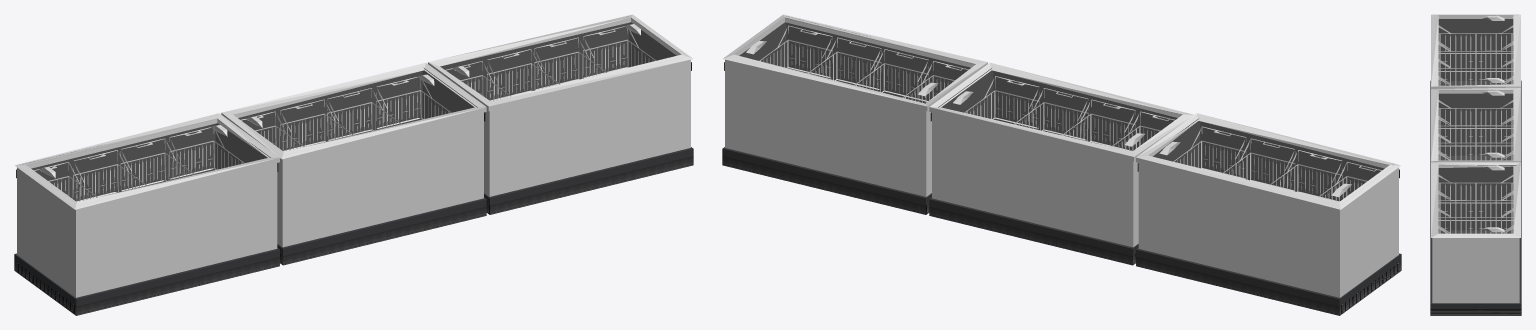
File: congelateur.glb
3 views of the same model, side by side, from view 1: azimuth 30°, elevation 25°; view 2: azimuth 150°, elevation 25°; view 3: azimuth 270°, elevation 25° (orthographic). The views are drawn at different scales.
Visible parts, largest first — view 1: congelateur; view 2: congelateur; view 3: congelateur.
Part boxes in pixels (x1,y1,x2,y2): congelateur: (14, 14, 693, 315); congelateur: (722, 14, 1401, 315); congelateur: (1430, 14, 1521, 315).
Bounding box in the file's own units: 5.35 × 0.9195 × 0.9257.
3 materials, 1 textured.
